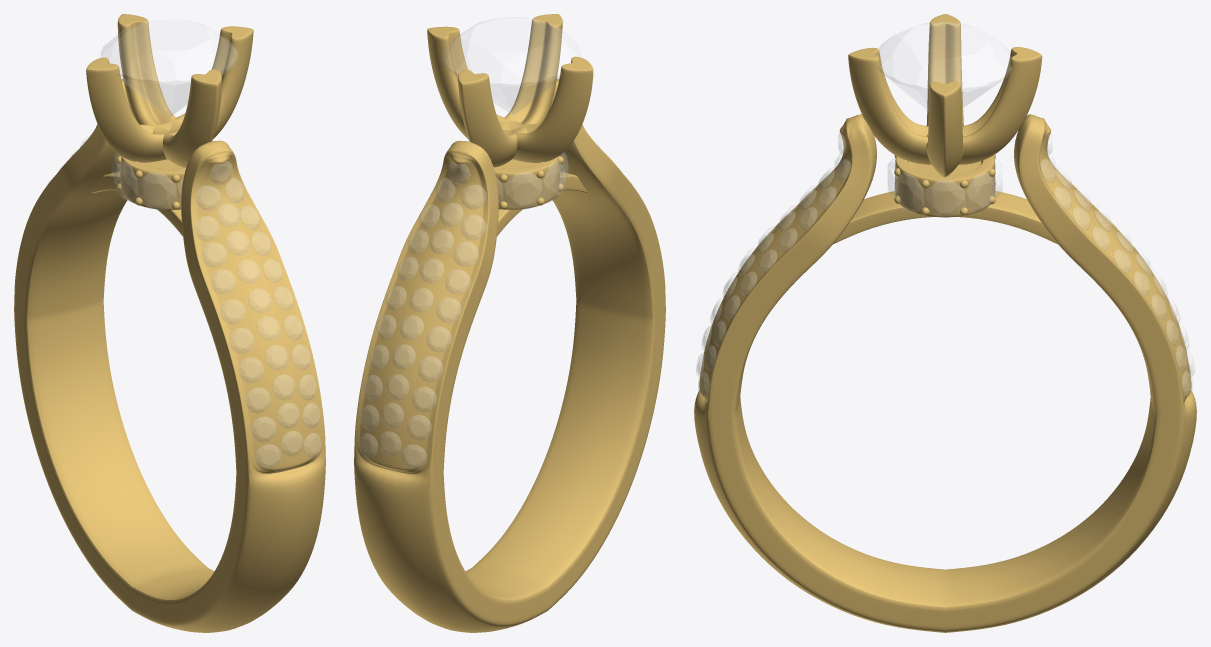
Rendered from ringclose_decoded.glb.
3 renders of one model, left to right at view 1: azimuth 30°, elevation 25°; view 2: azimuth 150°, elevation 25°; view 3: azimuth 270°, elevation 25°, orthographic.
Parts seen in each view (by area): view 1: band, main-diamond, top-diamond.003, top-diamond.004, Side-Diamond.035, Side-Diamond.031, Side-Diamond.033, Side-Diamond.037, Side-Diamond.027, Side-Diamond.023, Side-Diamond.029, Side-Diamond.025 (+11 smaller); view 2: band, main-diamond, top-diamond.005, top-diamond.004, Side-Diamond.006, Side-Diamond.010, Side-Diamond.057, Side-Diamond.004, Side-Diamond.053, Side-Diamond.059, Side-Diamond.008, Side-Diamond.000 (+11 smaller); view 3: band, main-diamond, top-diamond, top-diamond.007, top-diamond.001.
Boxes of the visible parts, left/top/right/bottom form: band: left=14, top=14, right=325, bottom=632; main-diamond: left=101, top=19, right=237, bottom=116; top-diamond.003: left=138, top=172, right=175, bottom=209; top-diamond.004: left=114, top=161, right=137, bottom=201; Side-Diamond.035: left=238, top=357, right=263, bottom=382; Side-Diamond.031: left=220, top=299, right=245, bottom=324; Side-Diamond.033: left=229, top=328, right=254, bottom=353; Side-Diamond.037: left=245, top=387, right=270, bottom=412; Side-Diamond.027: left=201, top=242, right=226, bottom=267; Side-Diamond.023: left=195, top=186, right=220, bottom=210; Side-Diamond.029: left=210, top=269, right=235, bottom=293; Side-Diamond.025: left=194, top=216, right=219, bottom=240; band: left=354, top=14, right=665, bottom=632; main-diamond: left=443, top=17, right=579, bottom=114; top-diamond.005: left=504, top=172, right=542, bottom=209; top-diamond.004: left=542, top=161, right=565, bottom=201; Side-Diamond.006: left=418, top=356, right=442, bottom=381; Side-Diamond.010: left=406, top=415, right=431, bottom=440; Side-Diamond.057: left=453, top=241, right=478, bottom=266; Side-Diamond.004: left=426, top=327, right=451, bottom=351; Side-Diamond.053: left=461, top=185, right=486, bottom=209; Side-Diamond.059: left=461, top=215, right=485, bottom=239; Side-Diamond.008: left=412, top=387, right=436, bottom=412; Side-Diamond.000: left=445, top=270, right=470, bottom=294; band: left=694, top=14, right=1196, bottom=632; main-diamond: left=876, top=22, right=1011, bottom=111; top-diamond: left=925, top=181, right=964, bottom=217; top-diamond.007: left=966, top=172, right=996, bottom=212; top-diamond.001: left=894, top=172, right=923, bottom=213.
Size of the model in its own units: 0.9055 by 3.03 by 2.35.
